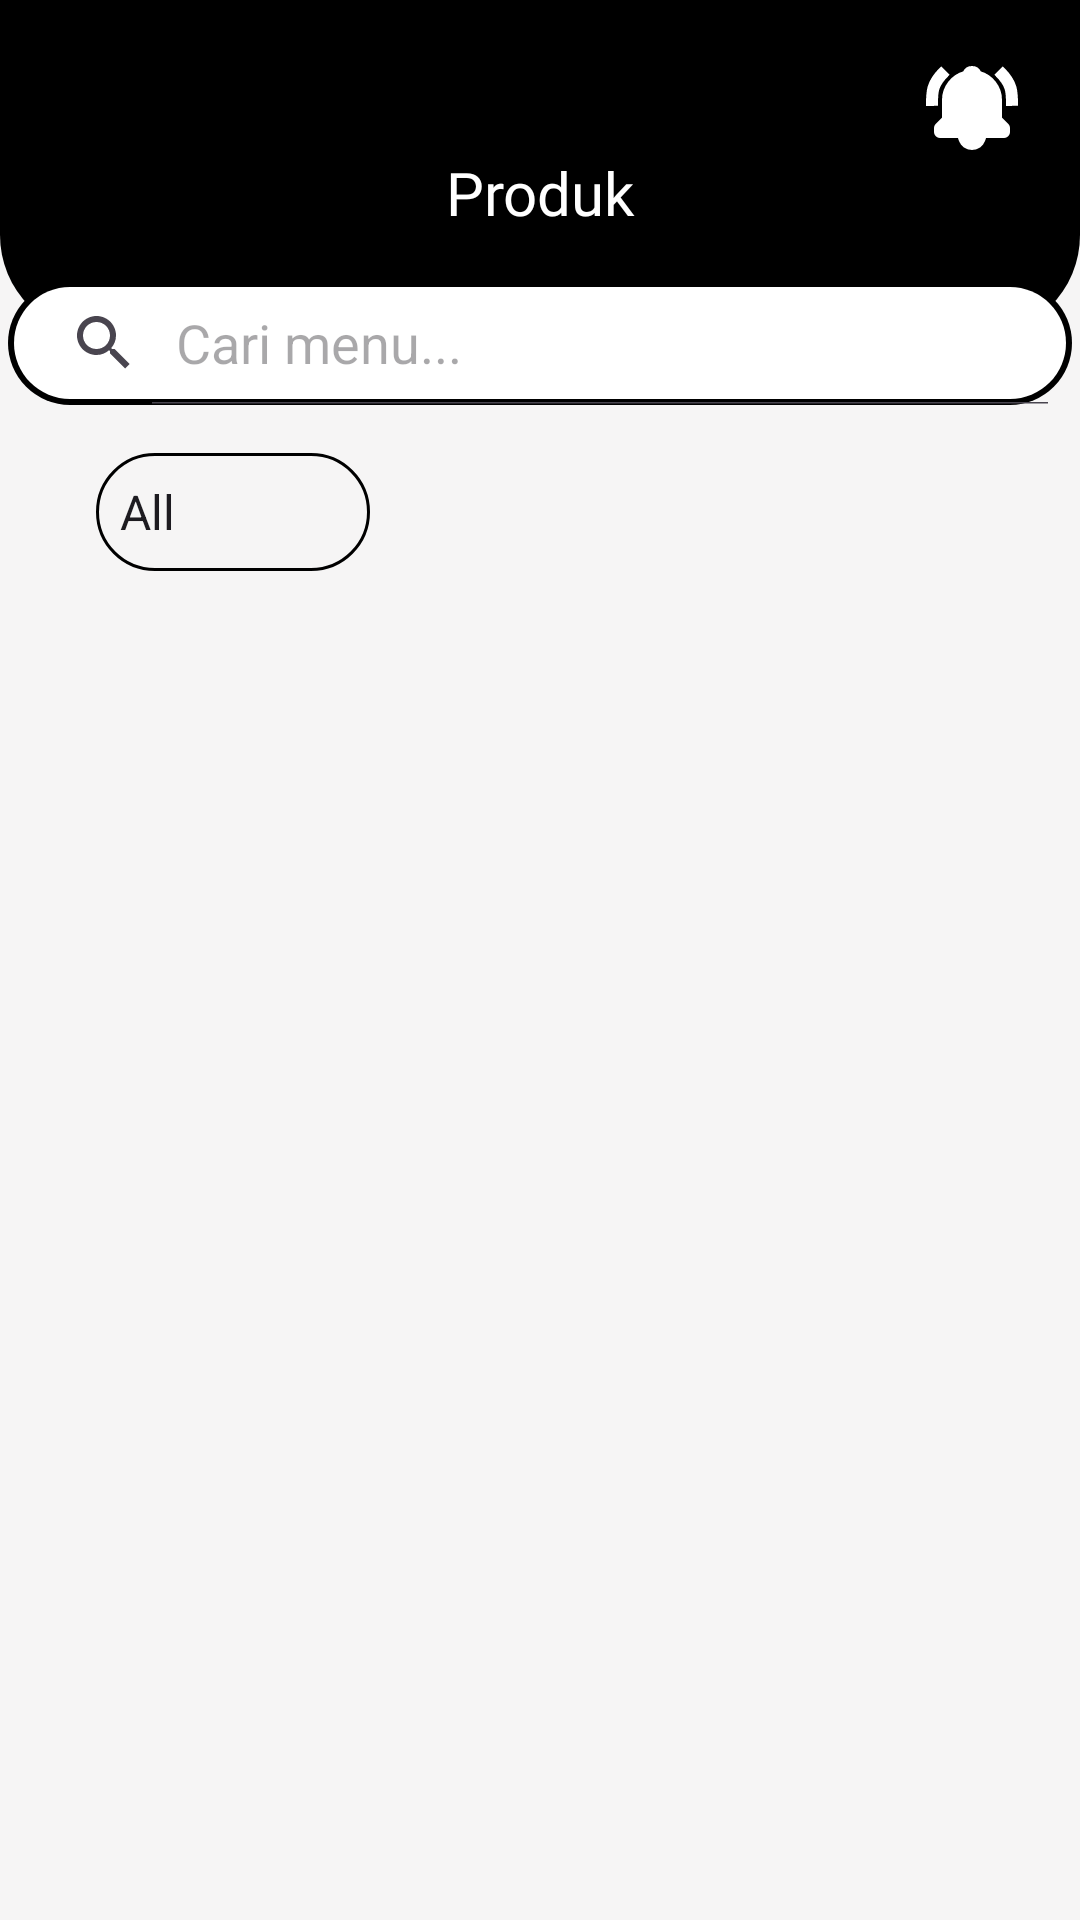

Icon click points for this 1080x1920 phone screenshot, format point (x, y):
bell ring: point (972, 108)
